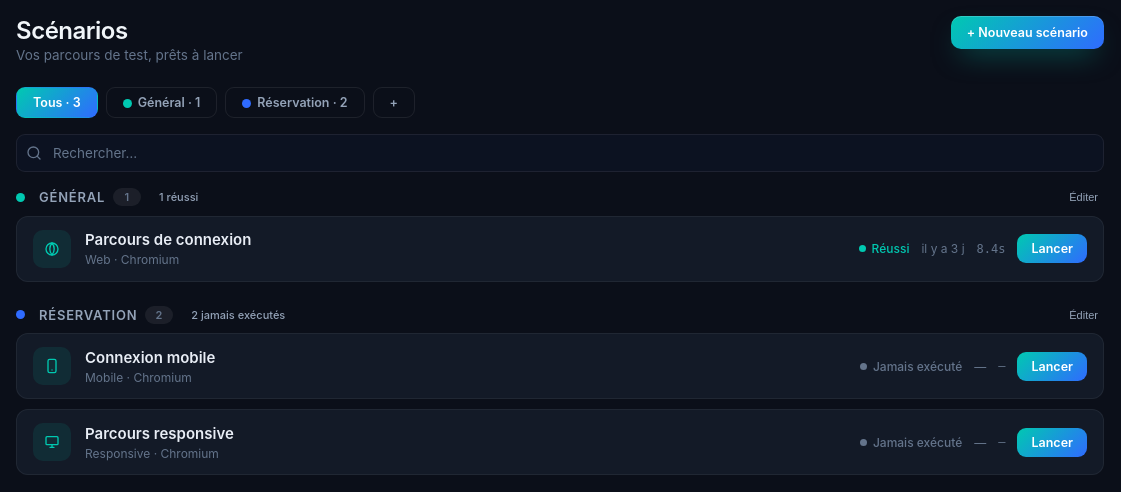
Test: HubLibrary filtres/recherche/env › filtre par groupe (Réservation masque les scénarios des autres groupes)
This screenshot has width=1121, height=492.
Expected: the text "Parcours de connexion" is shown, [85,230,251,249]
# Click the "Réservation · N" group tab
Step 1. Click the button "Réservation · 2" → click(295, 102), box [225,87,365,118]
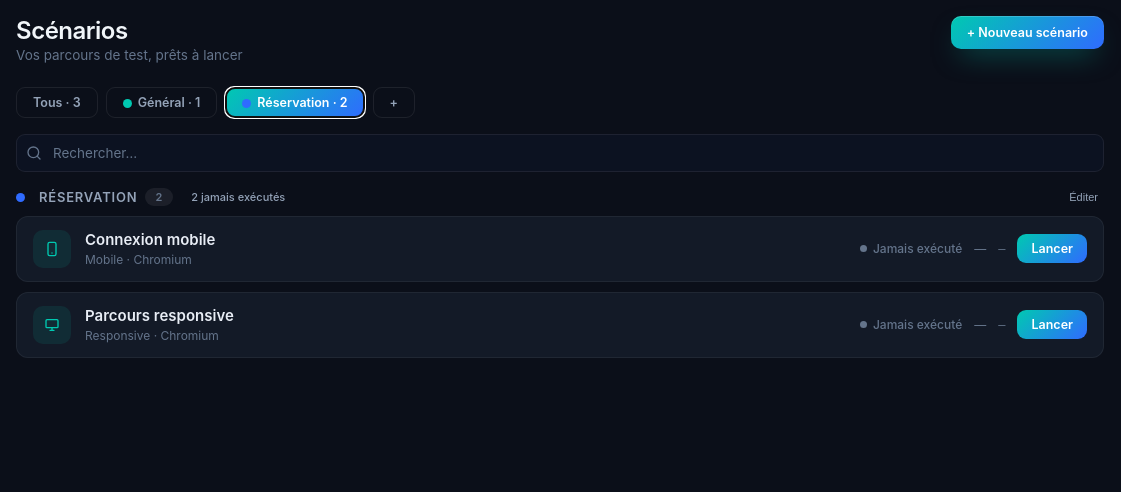
Expected: the text "Connexion mobile" is shown, [85,230,215,249]
Expected: the text "Parcours de connexion" is gone
